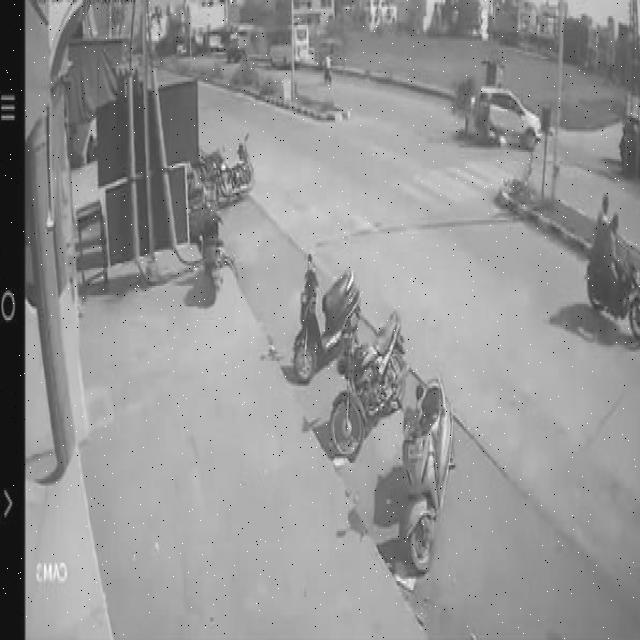accident: (450, 75, 543, 170)
